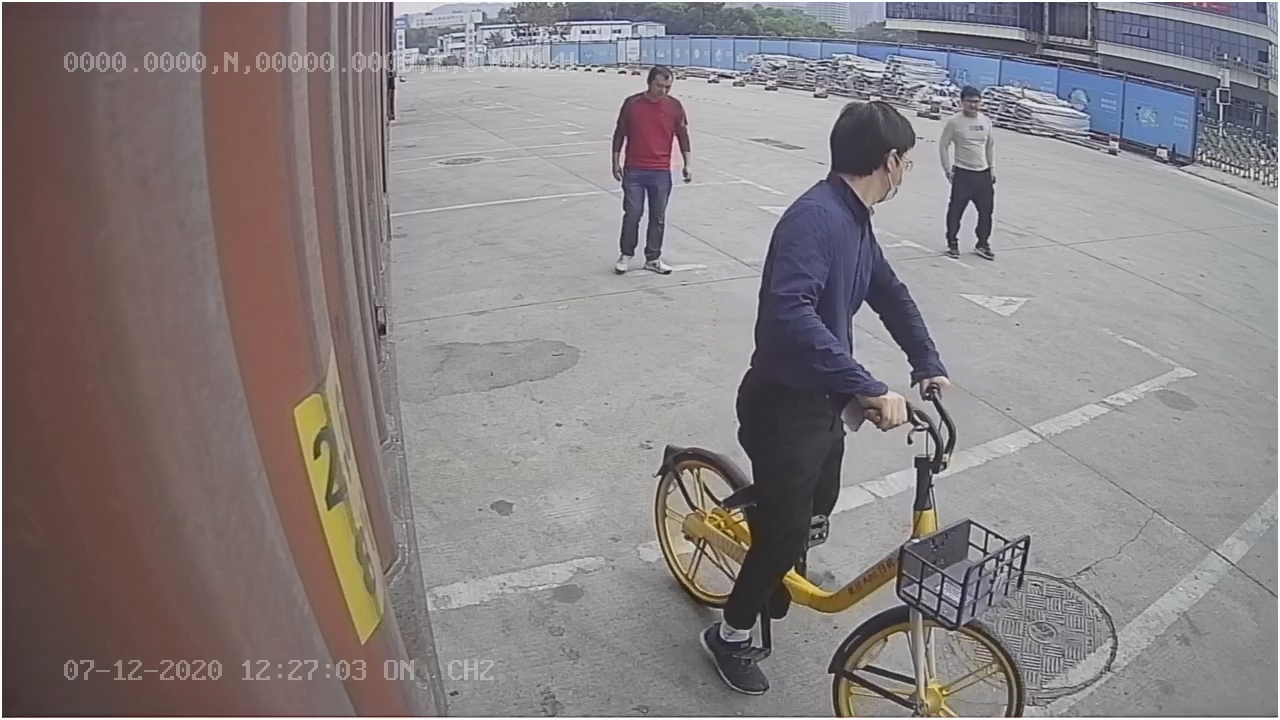person: (601, 60, 698, 276)
